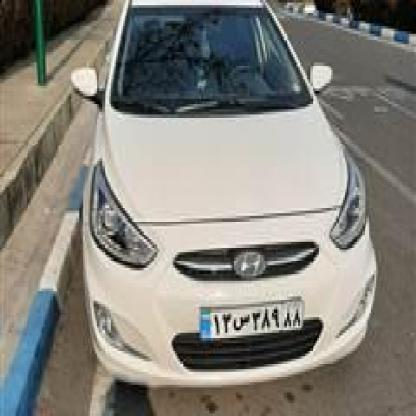Car: (65, 0, 374, 387)
